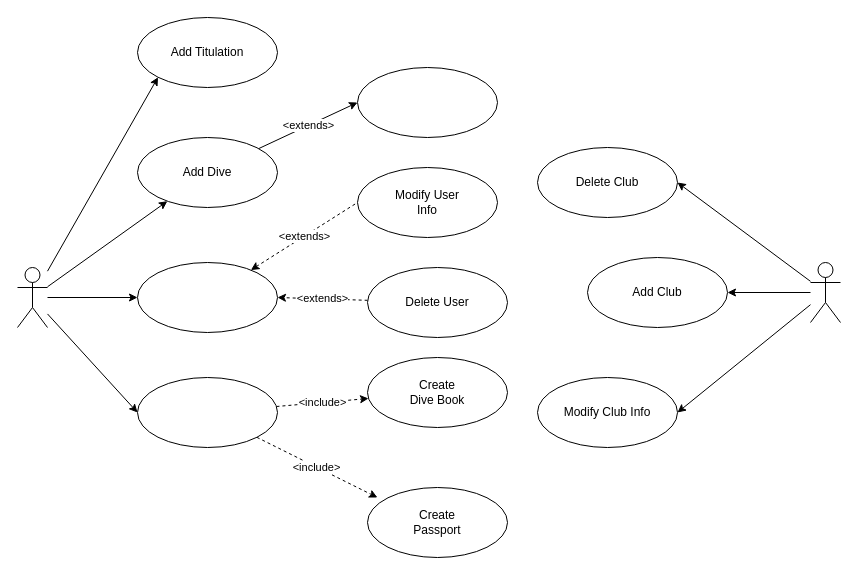
This 860x575 diagram has some shape labels left out. Each missing label, with the centre of its shape:
"Admin" belongs at (825,292).
"Diver" belongs at (32,297).
"Log in" belongs at (207,297).
"Modify Dive" belongs at (427,102).
"Register" belongs at (207,412).
